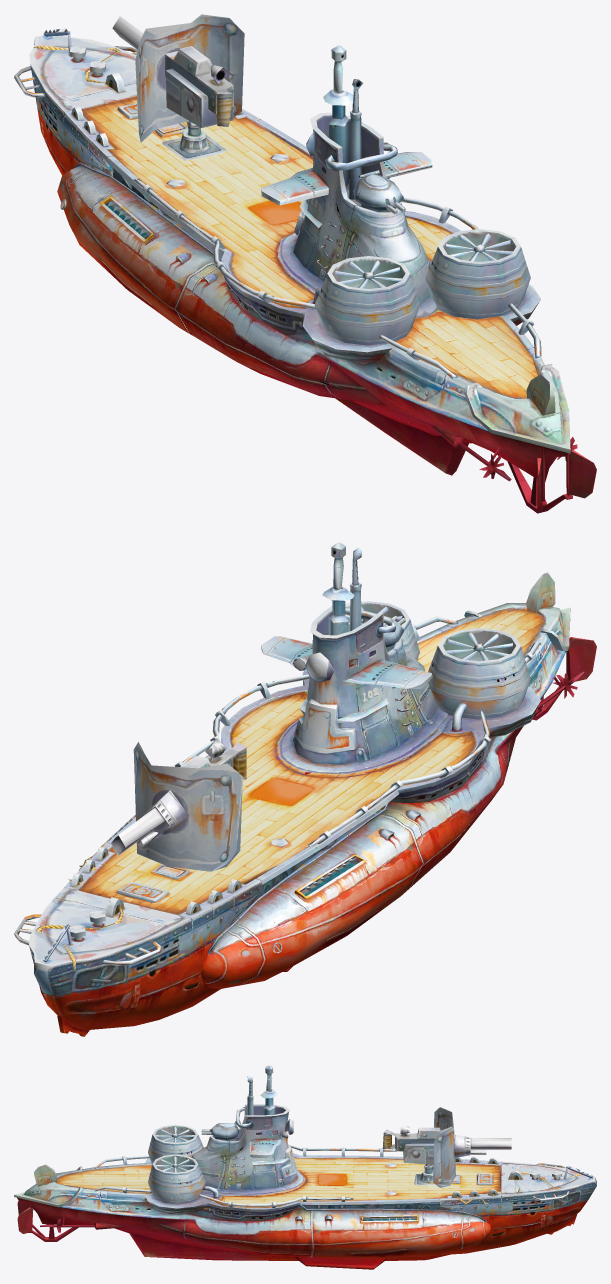
File: EnemySeaTurretShip.glb
3 views of the same model, one above another, from view 1: azimuth 30°, elevation 25°; view 2: azimuth 150°, elevation 25°; view 3: azimuth 270°, elevation 25° (orthographic). The views are drawn at different scales.
Visible parts, largest first — view 1: Ship, Gun, GunBase; view 2: Ship, Gun; view 3: Ship, Gun, GunBase.
Boxes of the visible parts, x1,y1,x2,y2 form: Ship: [14, 28, 596, 513]; Gun: [112, 14, 244, 142]; GunBase: [162, 120, 226, 160]; Ship: [14, 542, 596, 1036]; Gun: [110, 738, 246, 871]; Ship: [14, 1065, 596, 1269]; Gun: [382, 1107, 511, 1187]; GunBase: [414, 1164, 435, 1185].
Bounding box in the file's own units: 13.43 × 18.31 × 49.28.
Materials: 1 (1 with a texture image).
